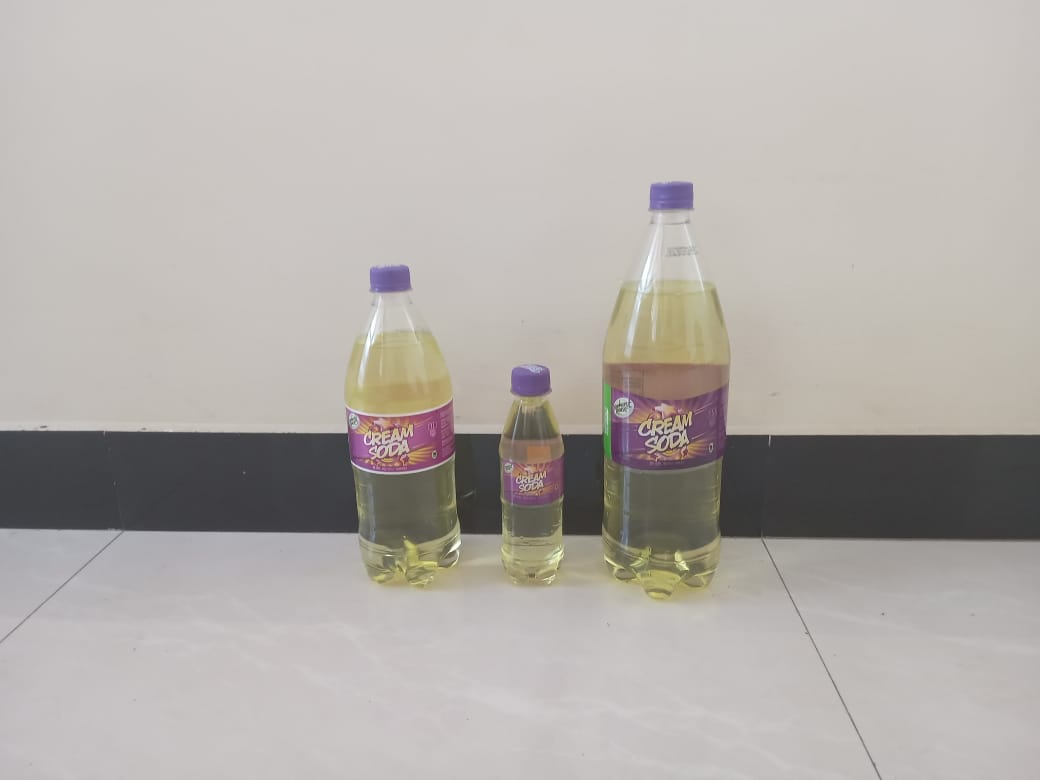L: (602, 183, 730, 602)
M: (344, 264, 465, 588)
Xs: (495, 365, 568, 582)
